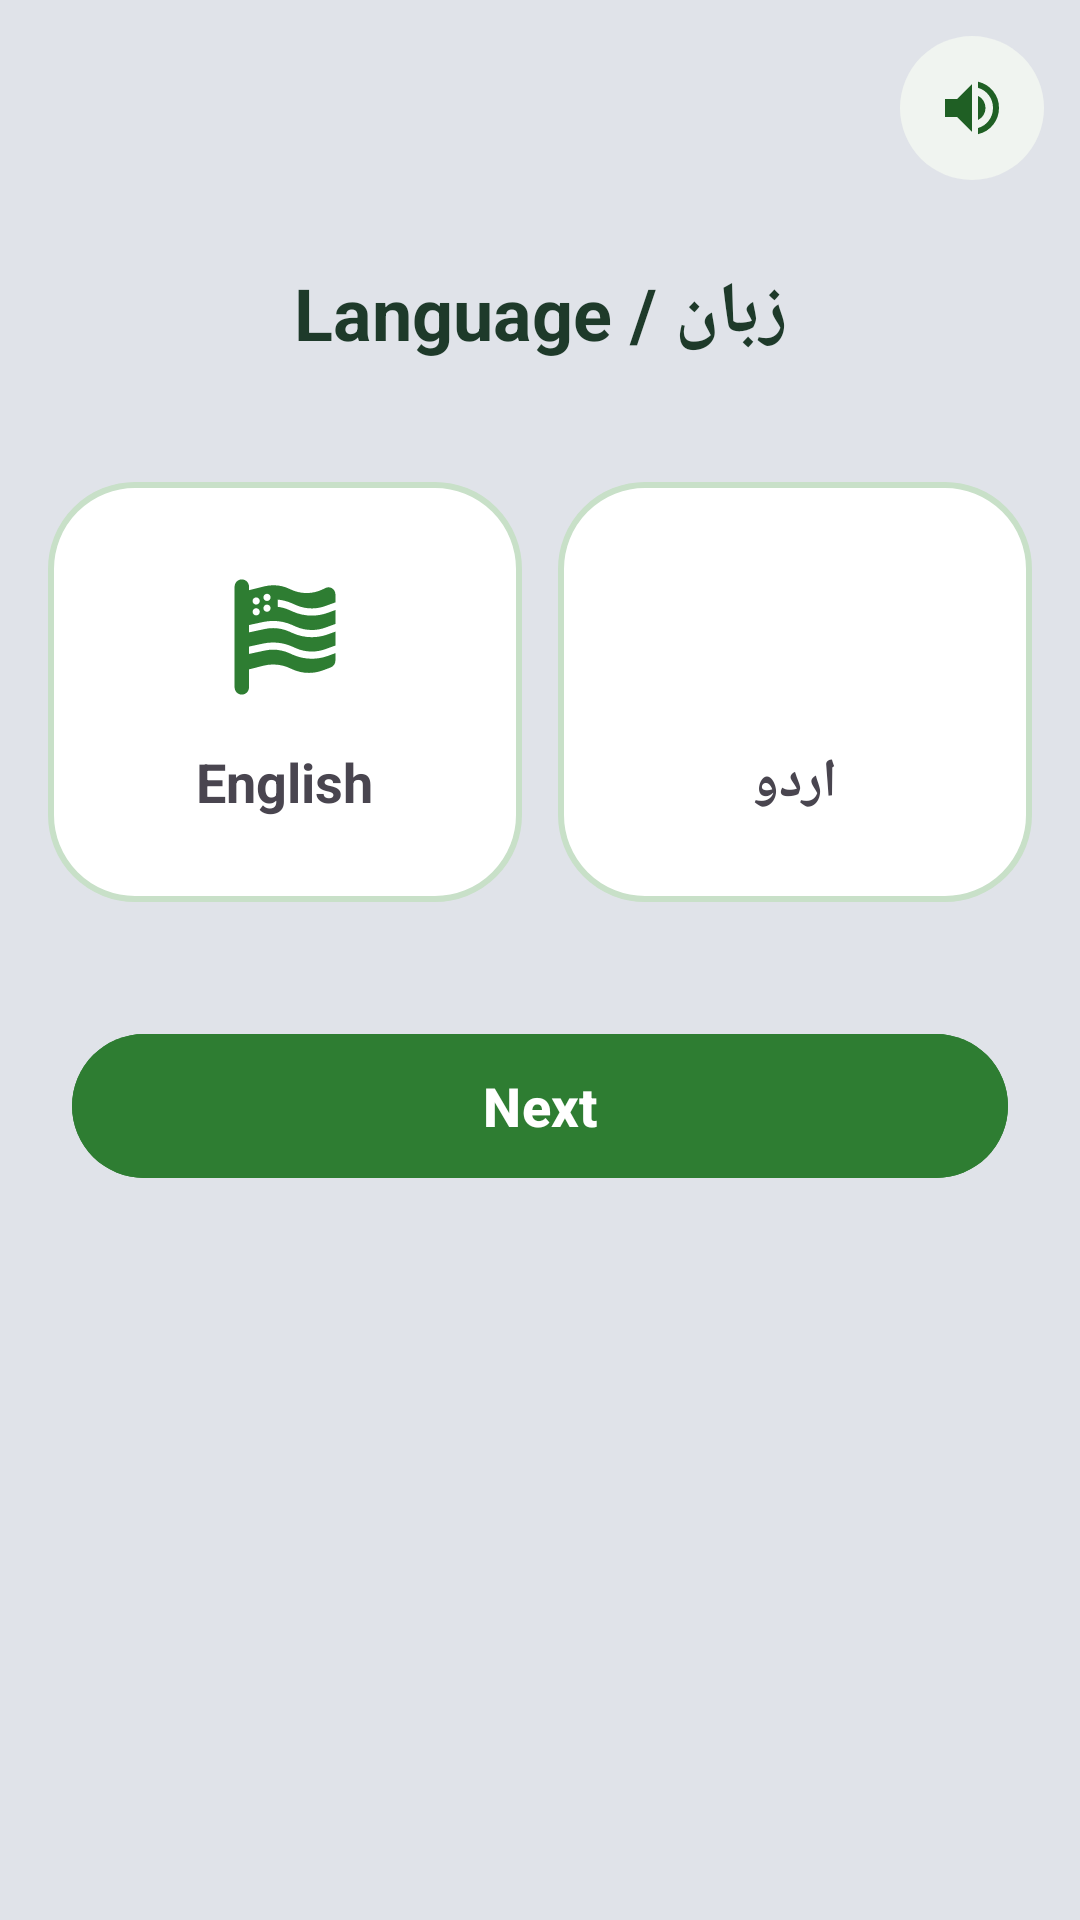

Named icons in this screenshot (1080*1920) and their centers, (x,y):
flag usa: (285,637)
volume up: (972,108)
